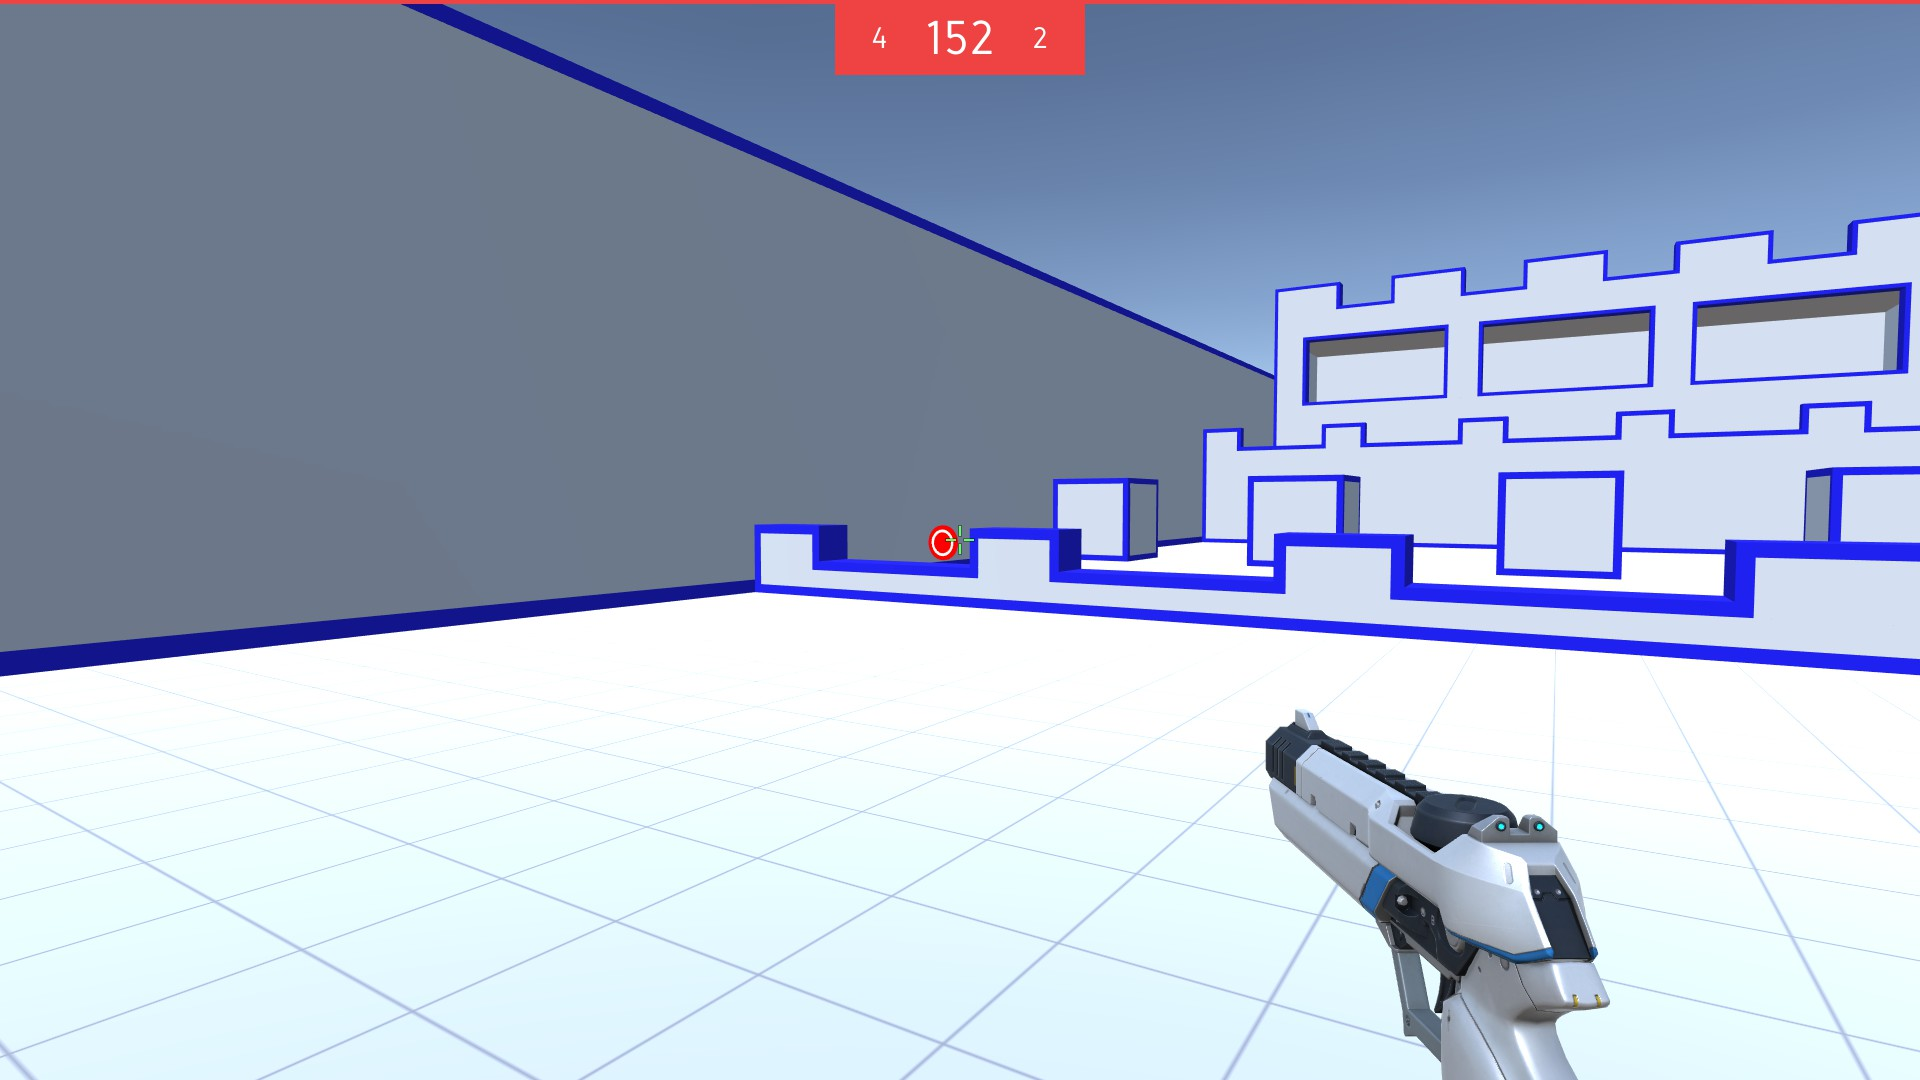target: (927, 524, 959, 560)
